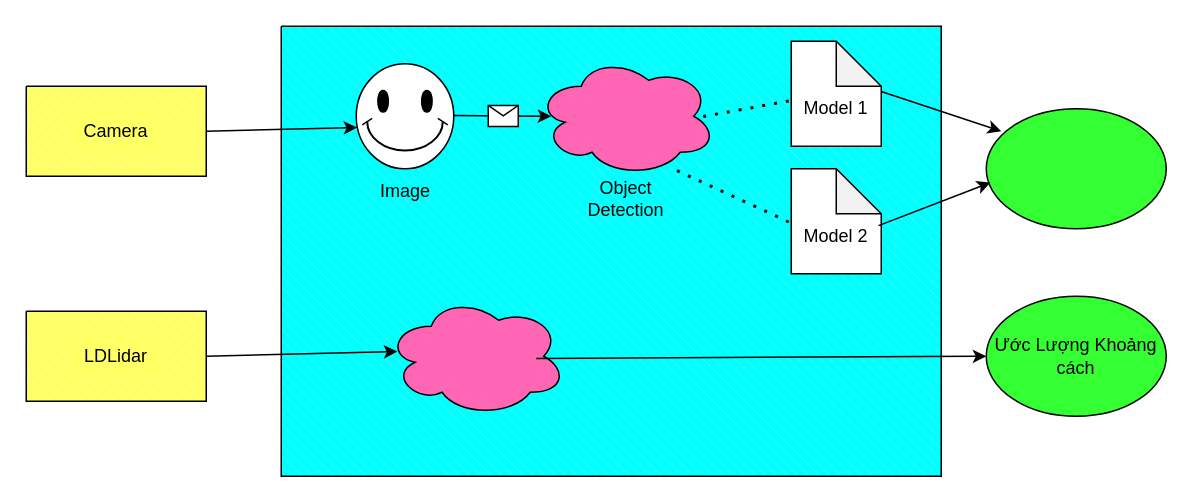
This 1193x503 diagram has some shape labels left out. The shapes that lost their labels are listed below. From the top down, each one's box as (x1, y1, x2, y2) in pixels, then its label:
(535, 55, 716, 176): MobileNet
(985, 107, 1166, 229): Phát Hiện Vật Cản
(385, 295, 566, 416): Time-of-flight d=c*t/2
